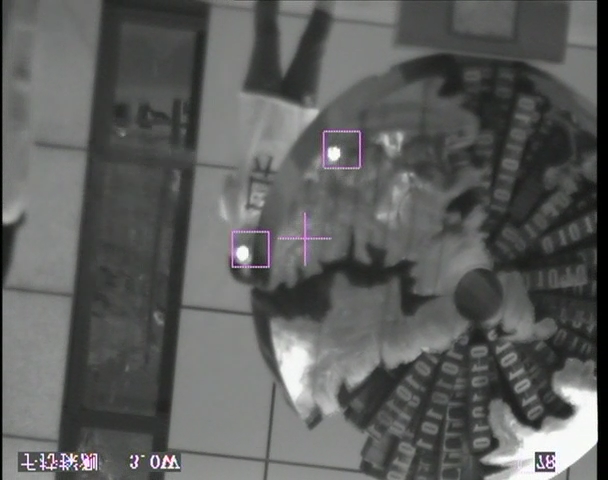my: (235, 244, 249, 262)
